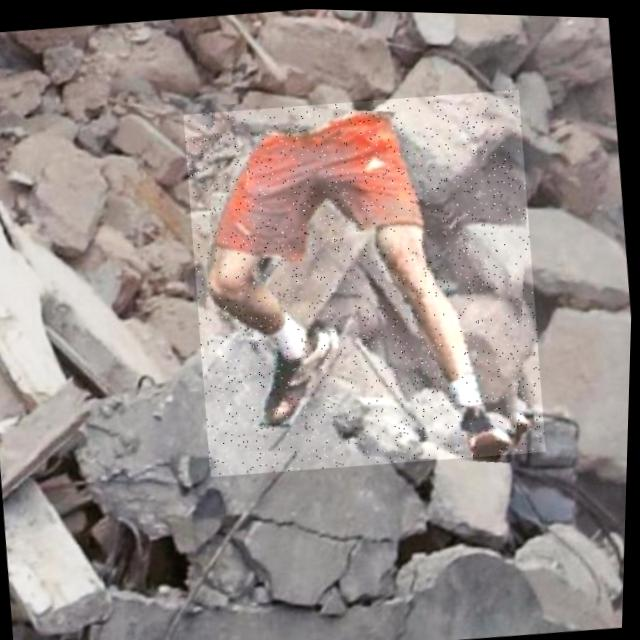Person in Rubble: (175, 78, 556, 483)
